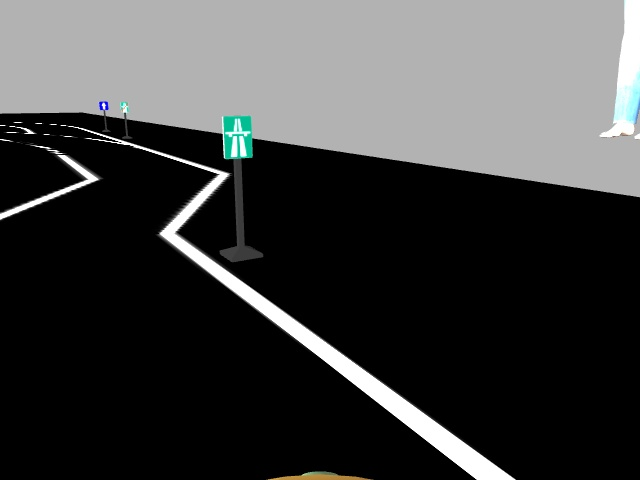HighwayEntrance: (220, 114, 252, 157)
